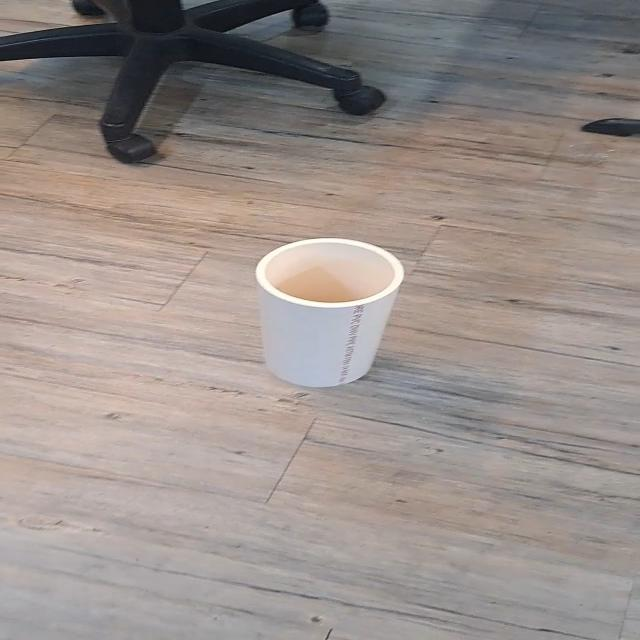CORAL: (214, 220, 440, 417)
